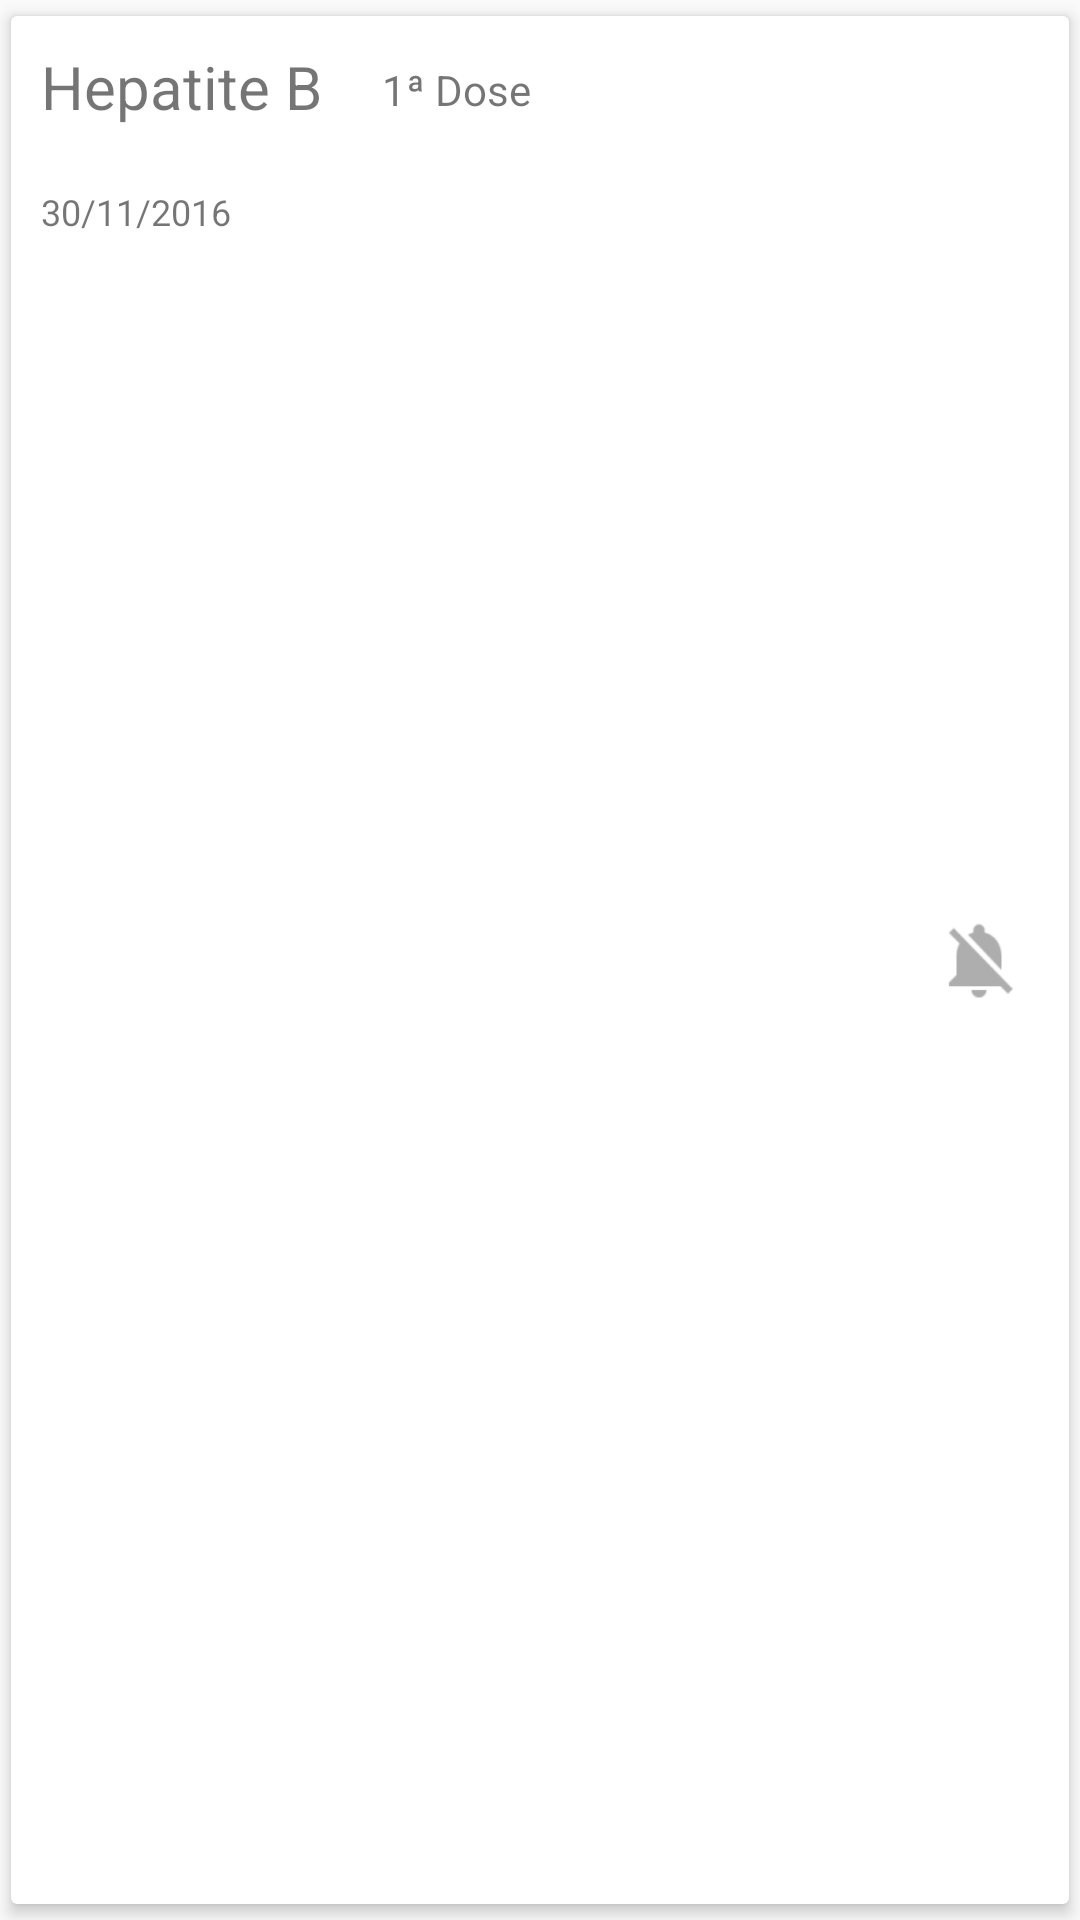

Screen size 1080 × 1920. Icon name, then its box in pixels as (x1, y1, x2, y2):
notification off: (949, 924, 1013, 998)
